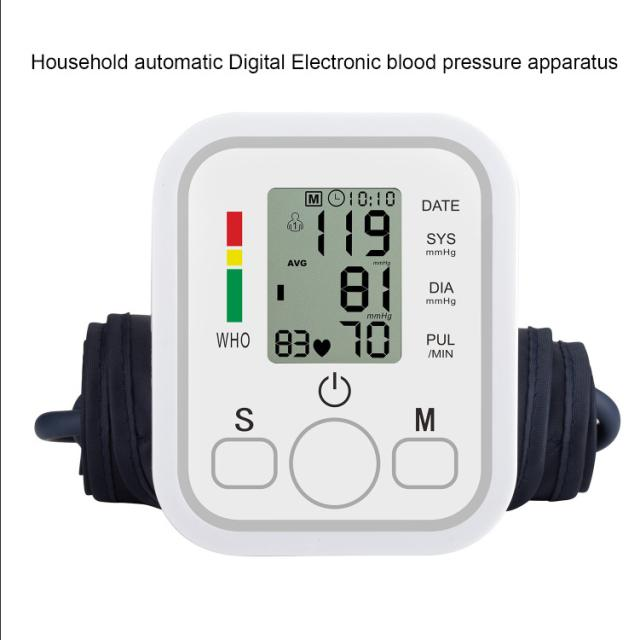dia: (334, 263, 401, 318)
pul: (335, 316, 396, 363)
ssd: (269, 187, 402, 364)
sys: (312, 205, 396, 261)
